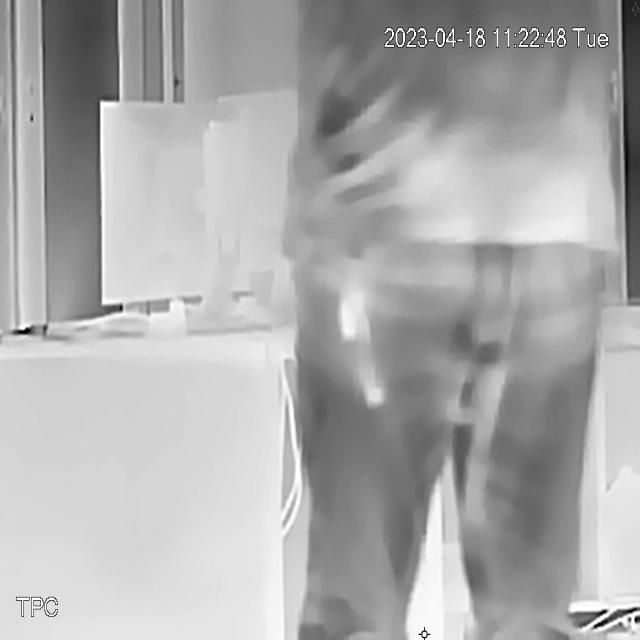Weapon: (308, 236, 395, 417)
